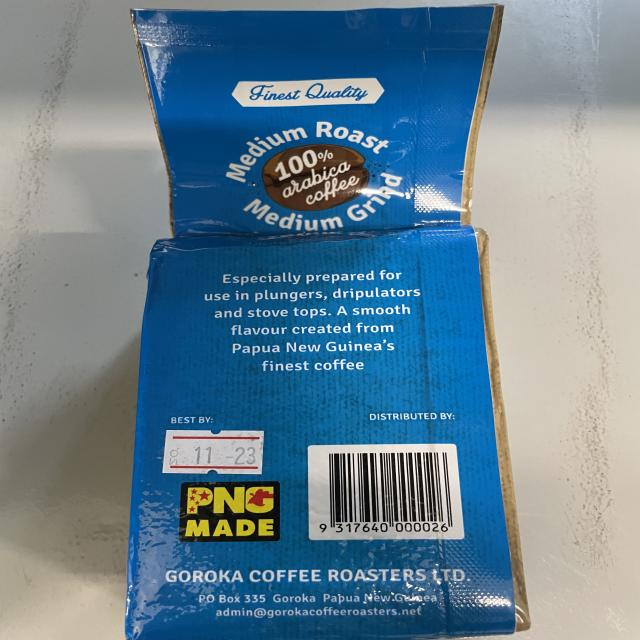object_name: (130, 4, 518, 631)
